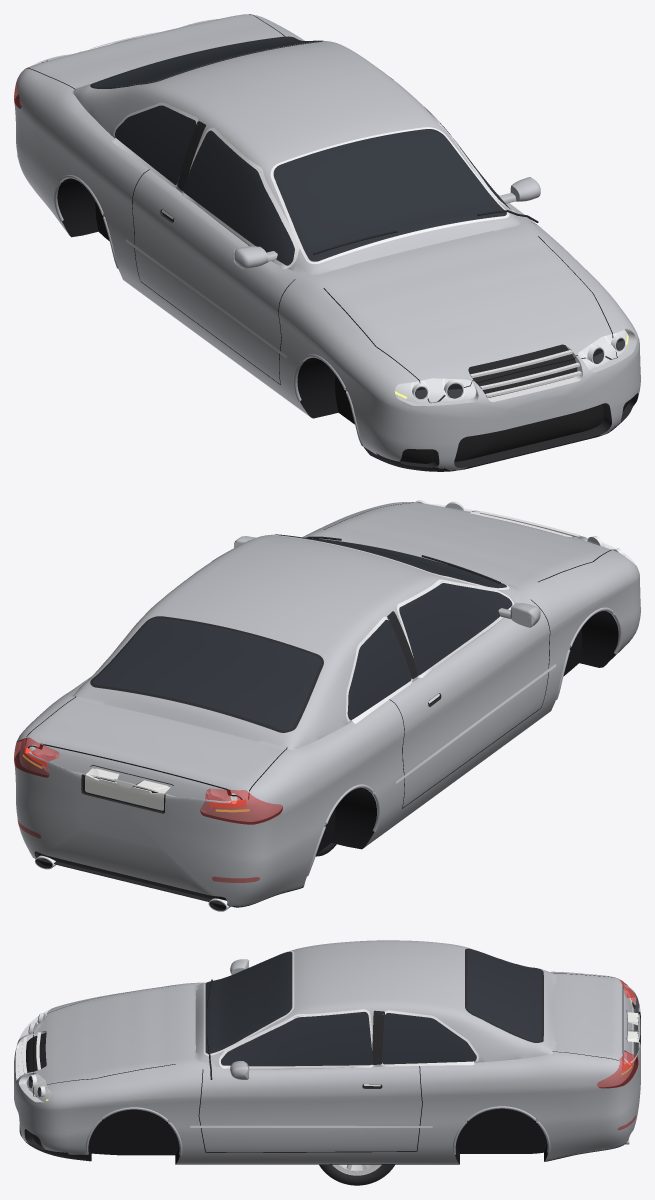
Rendered from argent.glb.
3 renders of one model, top to bottom at view 1: azimuth 30°, elevation 25°; view 2: azimuth 150°, elevation 25°; view 3: azimuth 270°, elevation 25°, orthographic. The views are drawn at different scales.
Visible parts, largest first — view 1: Body; view 2: Body; view 3: Body, TyreR.
Boxes of the visible parts, x1,y1,x2,y2 form: Body: [14, 14, 640, 471]; Body: [14, 500, 640, 911]; Body: [14, 940, 640, 1164]; TyreR: [319, 1164, 394, 1185].
Bounding box in the file's own units: 1.94 × 1.73 × 4.63.
